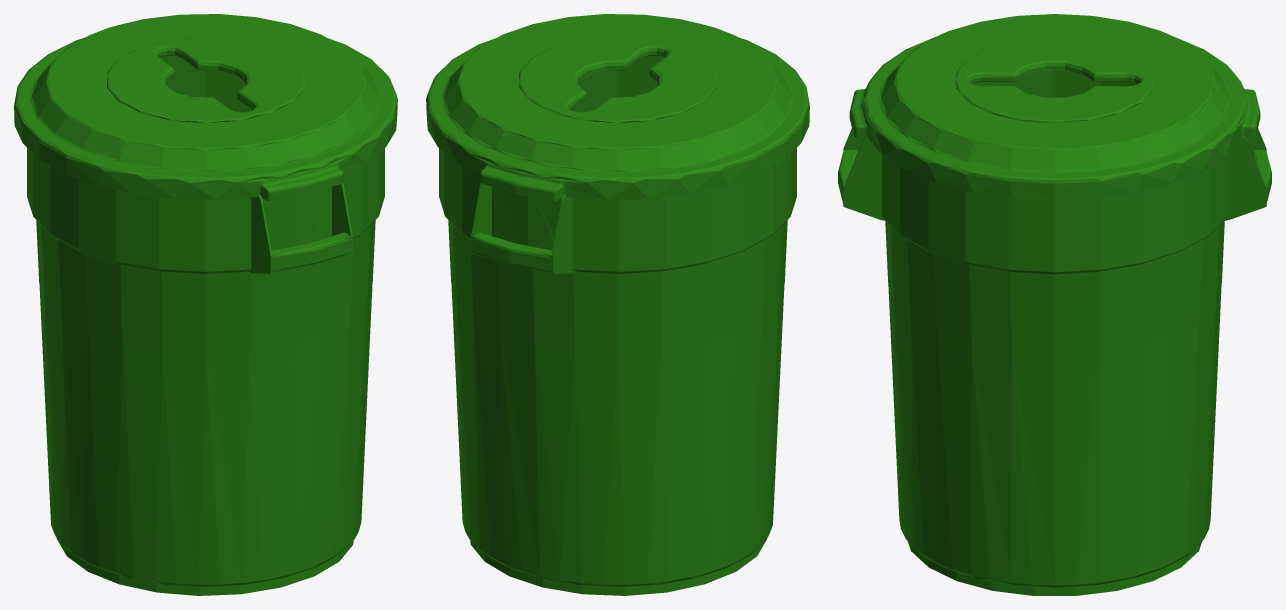
File: trash_can.dae
The picture shows the model from 3 angles, left to right: view 1: azimuth 30°, elevation 25°; view 2: azimuth 150°, elevation 25°; view 3: azimuth 270°, elevation 25°; orthographic projection.
Visible parts, largest first — view 1: _296; view 2: _296; view 3: _296.
Boxes of the visible parts, x1,y1,x2,y2 form: _296: (14, 14, 397, 595); _296: (426, 14, 809, 595); _296: (838, 14, 1271, 595).
Bounding box in the file's own units: 0.5652 × 0.6377 × 0.7366.
